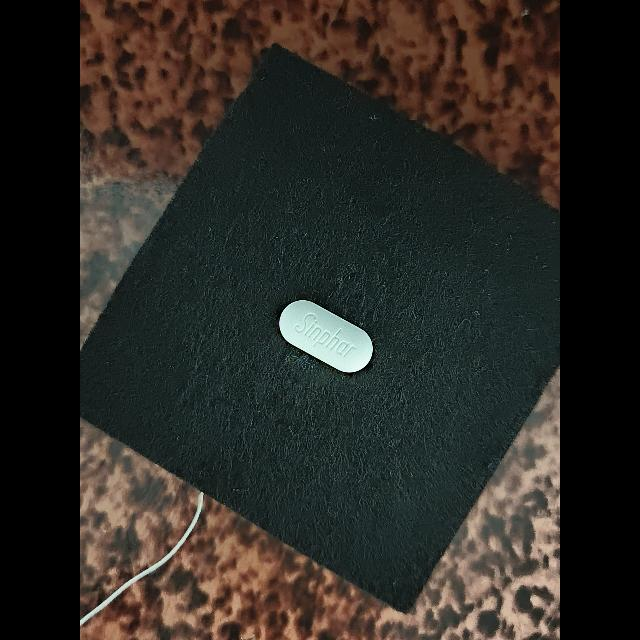Intact Pill: (279, 300, 373, 373)
